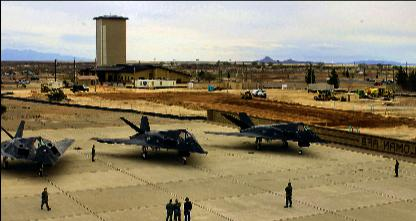E7: (90, 114, 209, 164), (202, 110, 330, 154), (1, 119, 75, 176)
